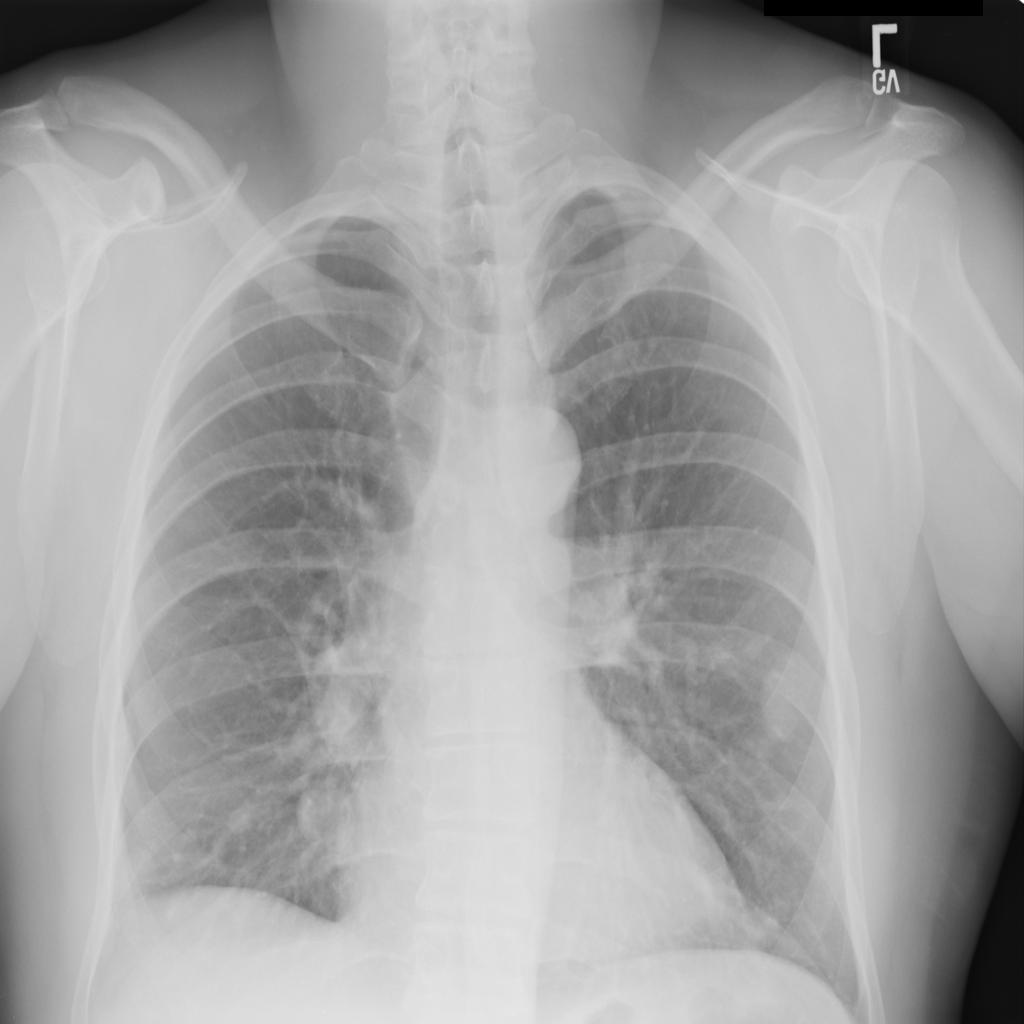nodule: (744, 632, 837, 753), (291, 766, 356, 855), (724, 885, 796, 959), (217, 790, 266, 842)
